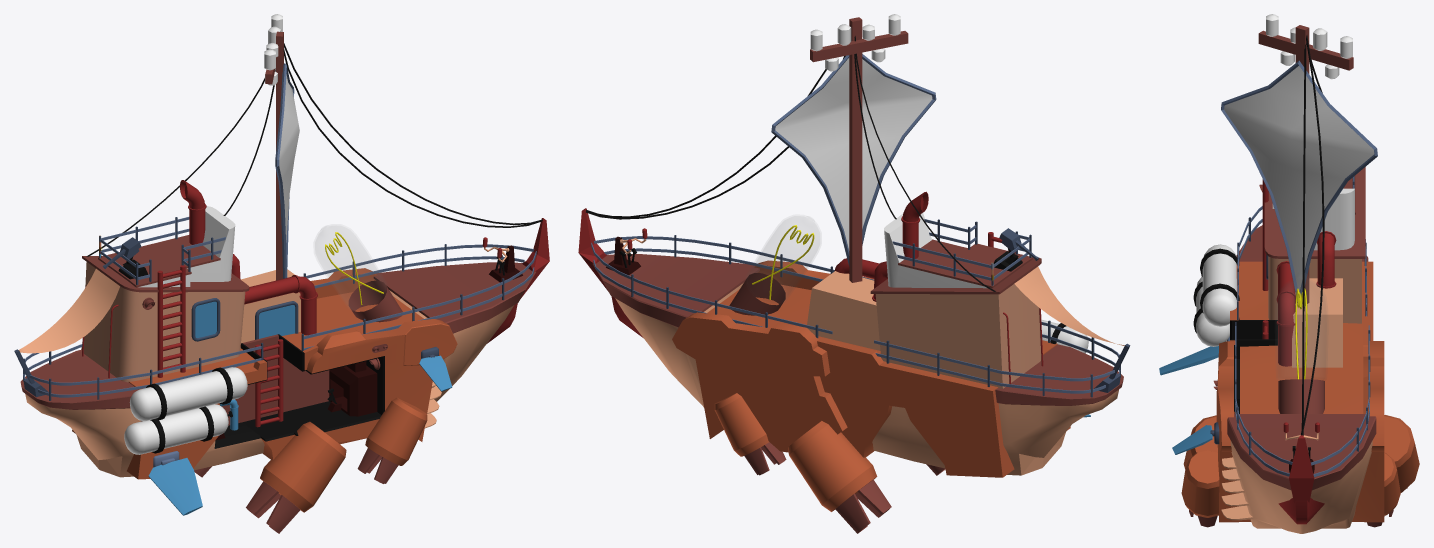
File: ship.FBX
3 renders of one model, left to right at view 1: azimuth 30°, elevation 25°; view 2: azimuth 150°, elevation 25°; view 3: azimuth 270°, elevation 25°, orthographic. The views are drawn at different scales.
Visible parts, largest first — view 1: Ship, Dvig, Parus, Dvig_s, Lamp, Wing, Wing_2; view 2: Ship, Parus, Lamp; view 3: Ship, Parus, Lamp, Dvig_s, Wing, Wing_2, Dvig, Lamp2.
Part boxes in pixels (x1,y1,x2,y2): Ship: [14, 43, 549, 479]; Dvig: [246, 421, 346, 533]; Parus: [264, 14, 299, 280]; Dvig_s: [357, 398, 427, 483]; Lamp: [315, 226, 385, 307]; Wing: [148, 458, 202, 515]; Wing_2: [419, 355, 452, 391]; Ship: [578, 25, 1130, 533]; Parus: [771, 14, 936, 282]; Lamp: [748, 216, 819, 300]; Ship: [1193, 35, 1419, 533]; Parus: [1221, 14, 1377, 303]; Lamp: [1276, 274, 1326, 379]; Dvig_s: [1181, 450, 1219, 527]; Wing: [1159, 346, 1218, 375]; Wing_2: [1172, 425, 1212, 454]; Dvig: [1183, 415, 1217, 468]; Lamp2: [1295, 288, 1307, 379].
Bounding box in the file's own units: 2169 × 851 × 1797.
